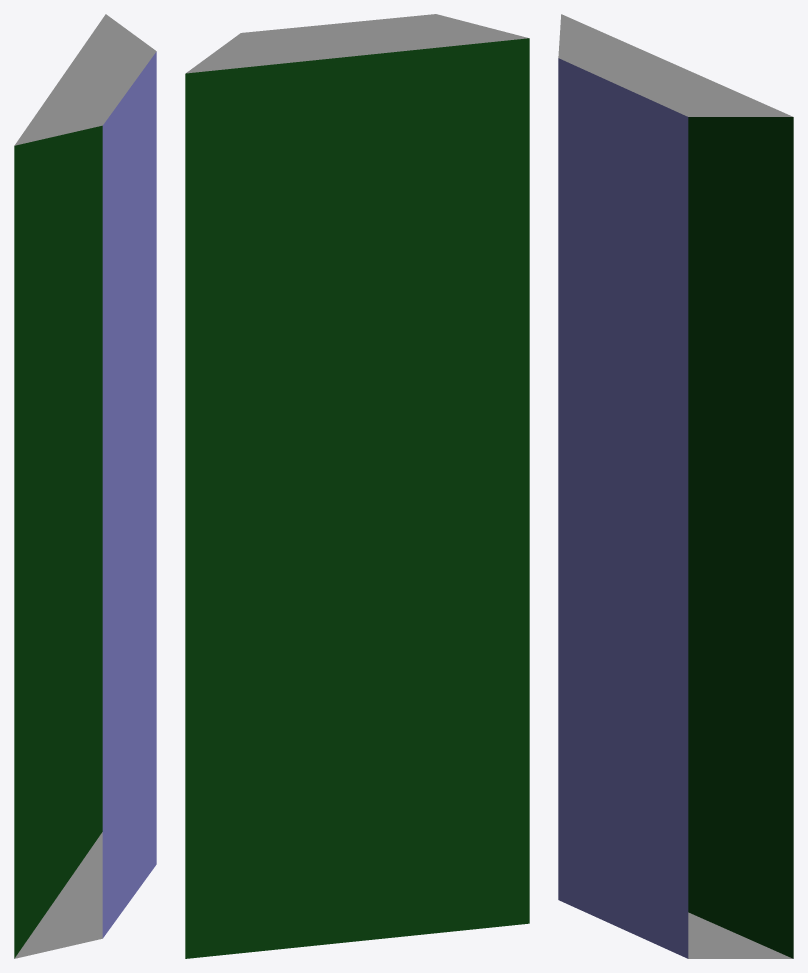
The model's file is nightwing corner wall.FBX.
3 views of the same model, side by side, from view 1: azimuth 30°, elevation 25°; view 2: azimuth 150°, elevation 25°; view 3: azimuth 270°, elevation 25° (orthographic). The views are drawn at different scales.
Visible parts, largest first — view 1: cornerwall; view 2: cornerwall; view 3: cornerwall.
Part boxes in pixels (x1=…): cornerwall: x1=14, y1=14, x2=156, y2=958; cornerwall: x1=185, y1=14, x2=529, y2=958; cornerwall: x1=558, y1=14, x2=793, y2=958.
Bounding box in the file's own units: 1.05 × 4 × 1.01.
